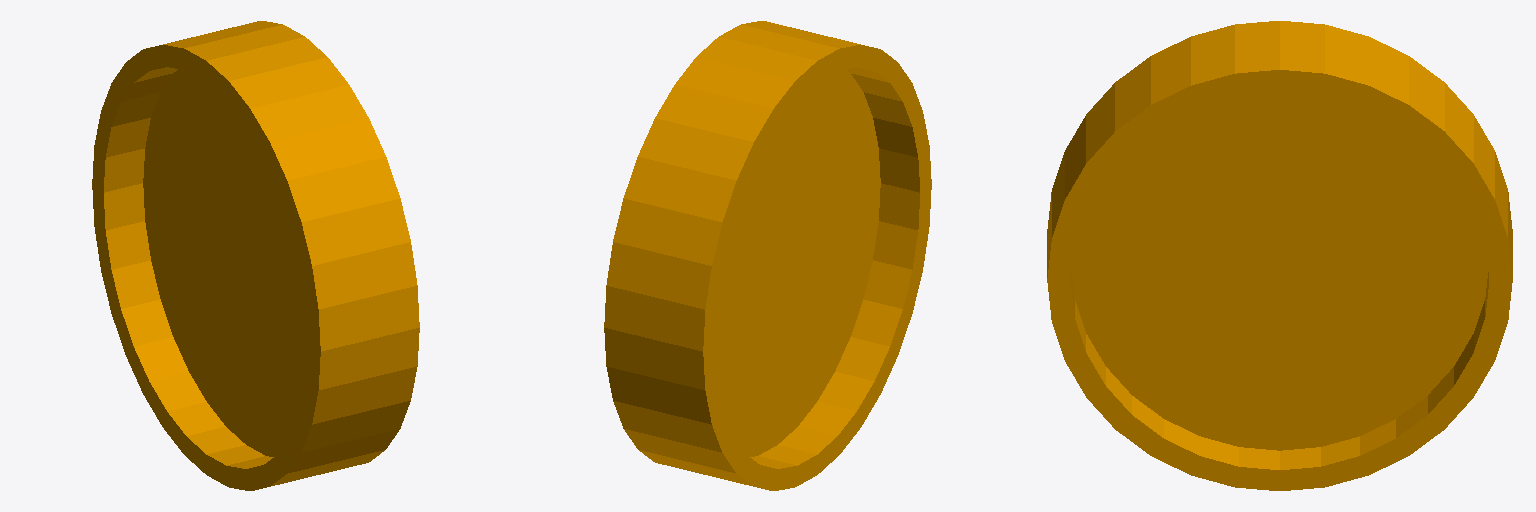
The robot description file, URDF, robot "token4":
?<?xml version="1.0" encoding="utf-8"?>
<robot name="token4">
  <material name="mat_TokenWhiteWLogo">
    <texture filename="package://resources/tex_GameToken.png" />
  </material>
  <link name="base_link">
    <inertial>
      <origin rpy="0 0 0" xyz="-0.041 0.03 -6.5E-05" />
      <mass value="1" />
      <inertia ixx="0.000413573900004849" ixy="-1.06519751352785E-10" ixz="1.6229571428994E-06" iyy="0.000413574016420171" iyz="1.62300534611859E-06" izz="0.000760834664106369" />
    </inertial>
    <visual>
      <origin rpy="0 0 0" xyz="0 0 0" />
      <geometry>
        <mesh filename="package://meshes/TokenWhiteWLogo.stl" scale="20 4 4" />
      </geometry>
      <material name="mat_TokenWhiteWLogo" />
    </visual>
    <collision>
      <origin rpy="0 0 0" xyz="0 0 0" />
      <geometry>
        <mesh filename="package://meshes/TokenWhiteWLogo.stl" scale="20 4 4" />
      </geometry>
    </collision>
  </link>
</robot>

--- What the picture shows (computed from the rendered views, not written in the file) ---
The picture shows the robot from 3 angles, left to right: view 1: azimuth 30°, elevation 25°; view 2: azimuth 150°, elevation 25°; view 3: azimuth 270°, elevation 25°; orthographic projection.
Robot: token4 — 1 links, 0 joints (none); root link base_link; default pose: every joint at zero.
Visible links, largest first — view 1: base_link; view 2: base_link; view 3: base_link.
Boxes of the visible links, x1=… form: base_link: x1=92, y1=21, x2=419, y2=490; base_link: x1=604, y1=21, x2=931, y2=490; base_link: x1=1047, y1=21, x2=1512, y2=490.
Size in the robot's own frame: 0.02 by 0.08 by 0.08 metres.
Meshes: 1 distinct files referenced, 1 mesh visuals loaded (1 binary STL).